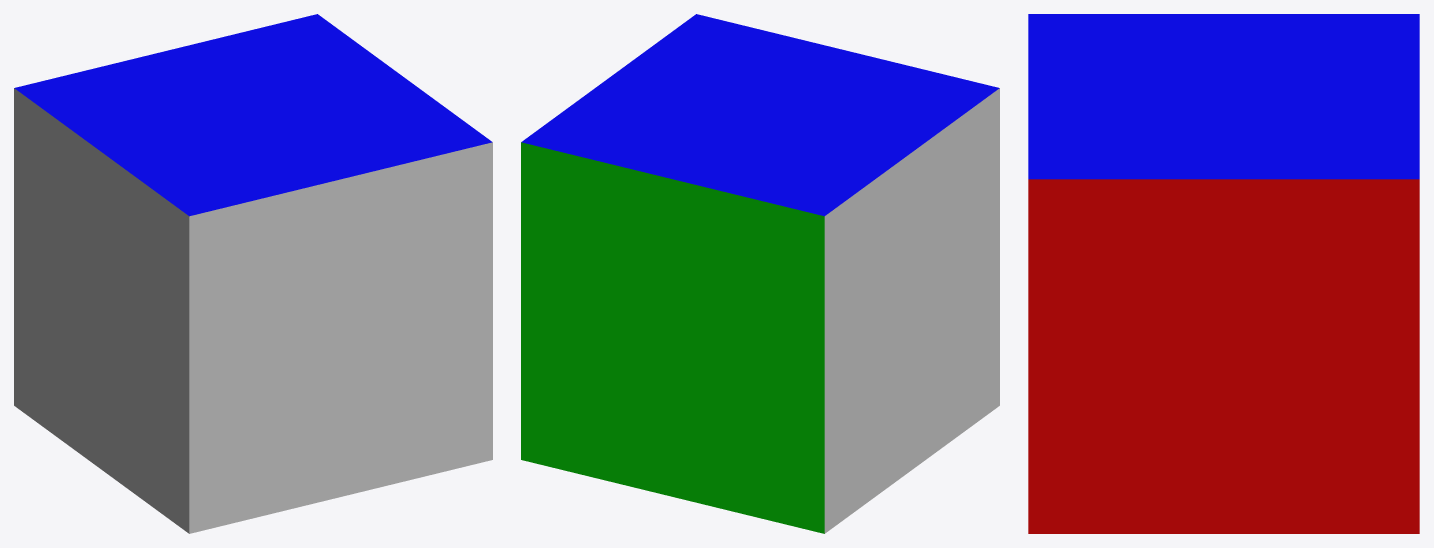
File: nested.dae
3 views of the same model, side by side, from view 1: azimuth 30°, elevation 25°; view 2: azimuth 150°, elevation 25°; view 3: azimuth 270°, elevation 25° (orthographic). The views are drawn at different scales.
Visible parts, largest first — view 1: Cube; view 2: Cube; view 3: Cube.
Part boxes in pixels (box(x1,y1,x2,y2)): Cube: box(14, 14, 492, 533); Cube: box(521, 14, 999, 533); Cube: box(1028, 14, 1419, 533).
Size of the model in its own units: 2 by 2 by 2.
